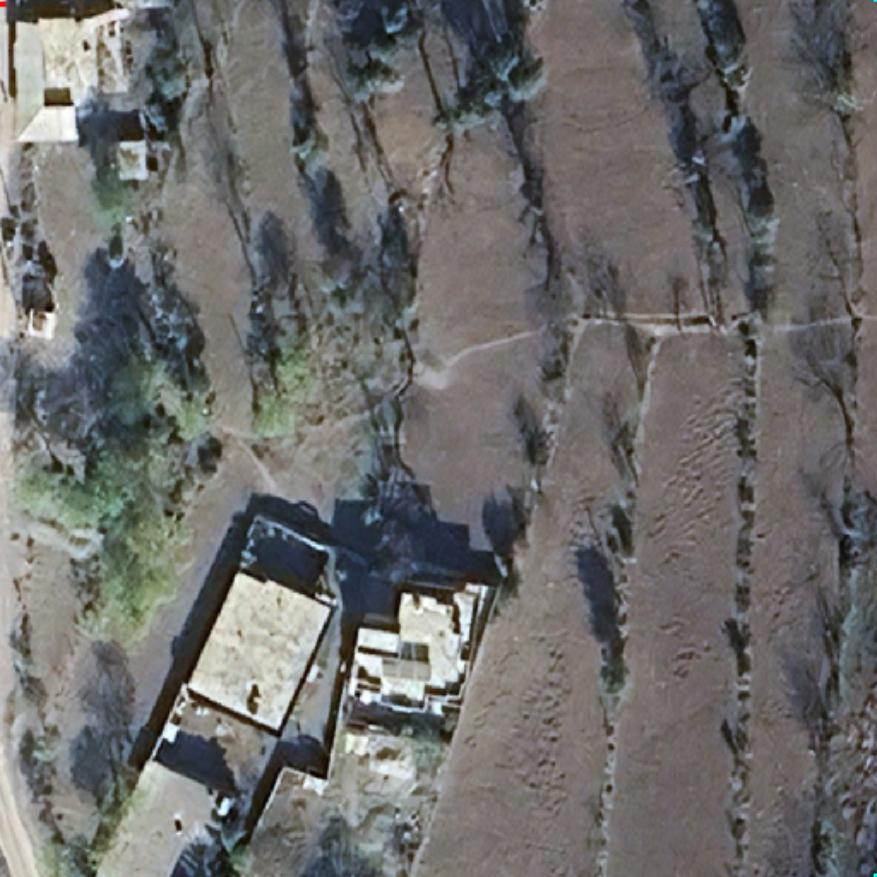Solarpanel: (381, 660, 433, 686)
